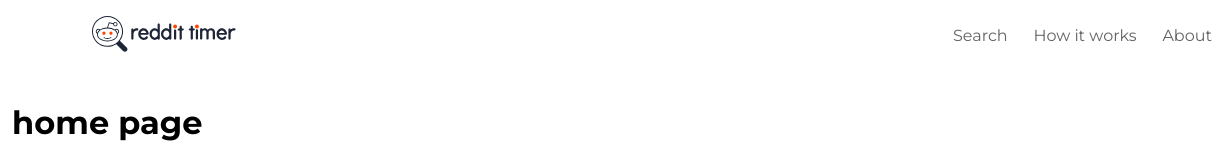
navigates to search page when search link is clicked
This screenshot has width=1229, height=160.
What coordinates should you click on to do the following:
click the link "Search"
I would click on:
 (980, 34)
Its box is [953,26,1008,44].
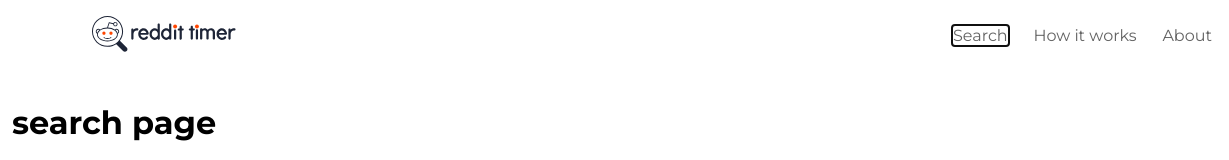
Expected: the heading "search page" is shown, [12,103,216,142]
